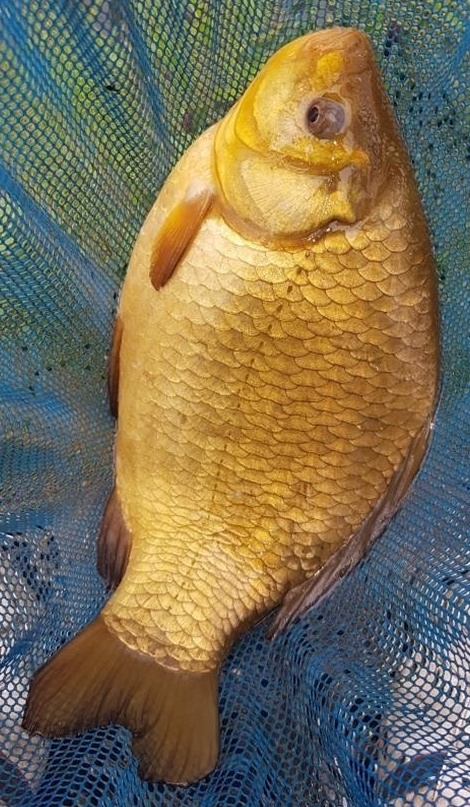Carassius carassius: (20, 20, 450, 787)
